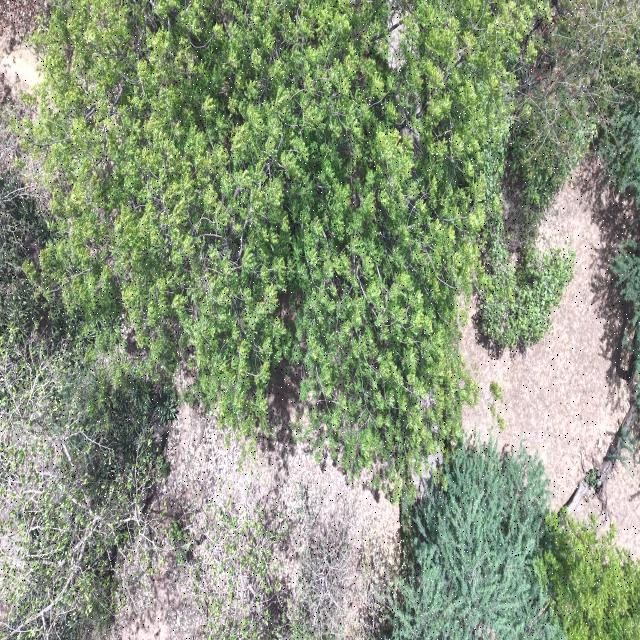DRY_AREA: (461, 160, 634, 509), (461, 160, 633, 508), (157, 404, 398, 637), (158, 405, 398, 636), (0, 0, 45, 103), (0, 36, 40, 93), (0, 0, 46, 48), (0, 39, 39, 91)
VEGETATION_TREE: (0, 0, 639, 638), (23, 0, 635, 490), (24, 0, 542, 485), (192, 440, 639, 639), (0, 171, 173, 638), (477, 0, 639, 346), (390, 441, 639, 639), (392, 443, 639, 639), (0, 338, 158, 638), (180, 475, 398, 639), (391, 442, 562, 639), (506, 0, 639, 216), (566, 217, 639, 514), (565, 240, 639, 515), (475, 174, 574, 348), (278, 492, 386, 639), (189, 499, 281, 639), (541, 510, 639, 639), (595, 239, 639, 511), (0, 173, 64, 343), (478, 248, 573, 348), (597, 6, 639, 209), (597, 65, 639, 212), (597, 94, 639, 207), (611, 239, 639, 403), (489, 381, 505, 429)
